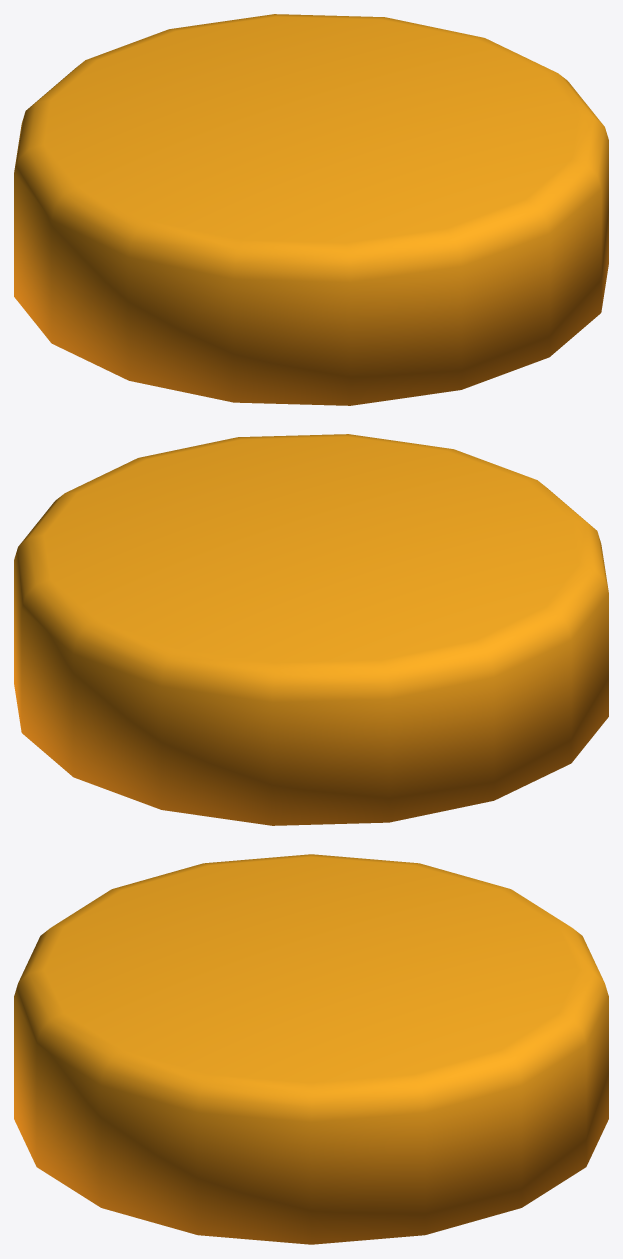
Rendered from Button_Orange.fbx.
3 views of the same model, one above another, from view 1: azimuth 30°, elevation 25°; view 2: azimuth 150°, elevation 25°; view 3: azimuth 270°, elevation 25° (orthographic).
Parts seen in each view (by area): view 1: Button_Orange; view 2: Button_Orange; view 3: Button_Orange.
Part boxes in pixels (bbox=[...]): Button_Orange: bbox=[14, 14, 608, 405]; Button_Orange: bbox=[14, 434, 608, 825]; Button_Orange: bbox=[14, 854, 608, 1244].
Bounding box in the file's own units: 0.7224 × 0.1996 × 0.7224.
